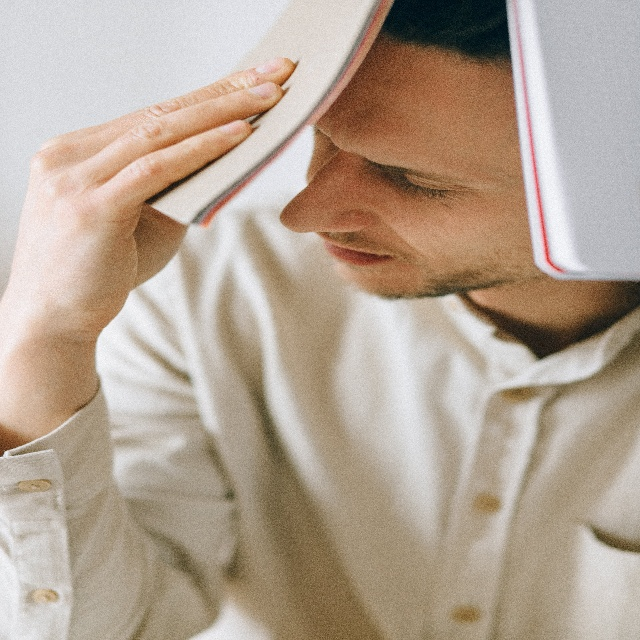Sin_guantes: (13, 54, 298, 334)
